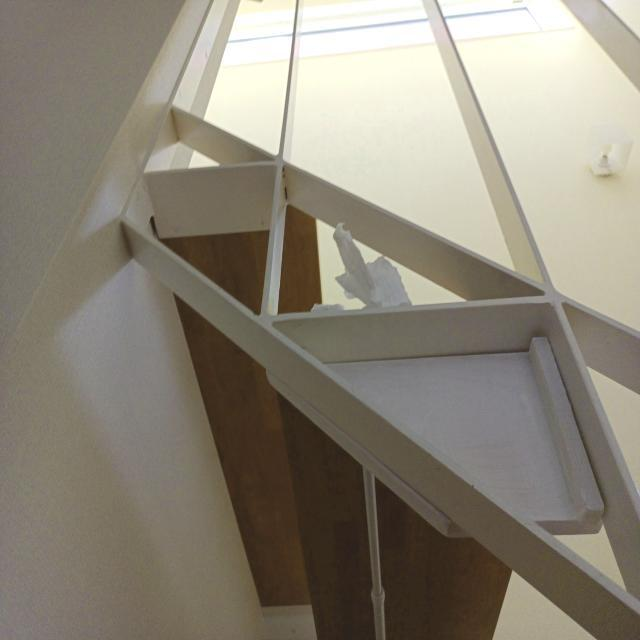Paper: (306, 219, 417, 309)
